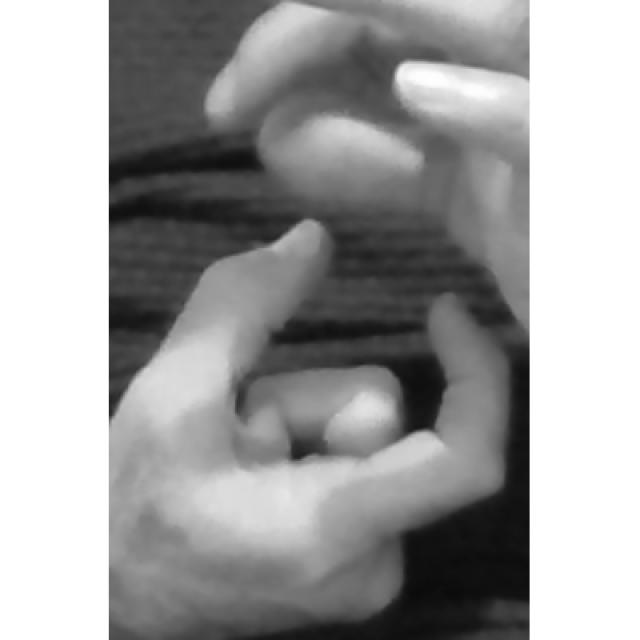U--: (109, 0, 528, 640)
